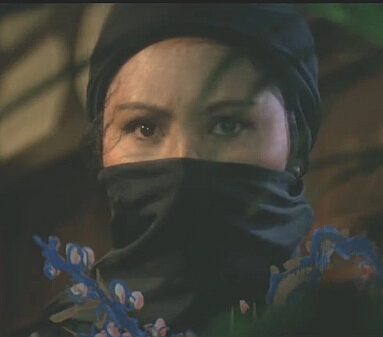face_mask: (99, 42, 286, 266)
